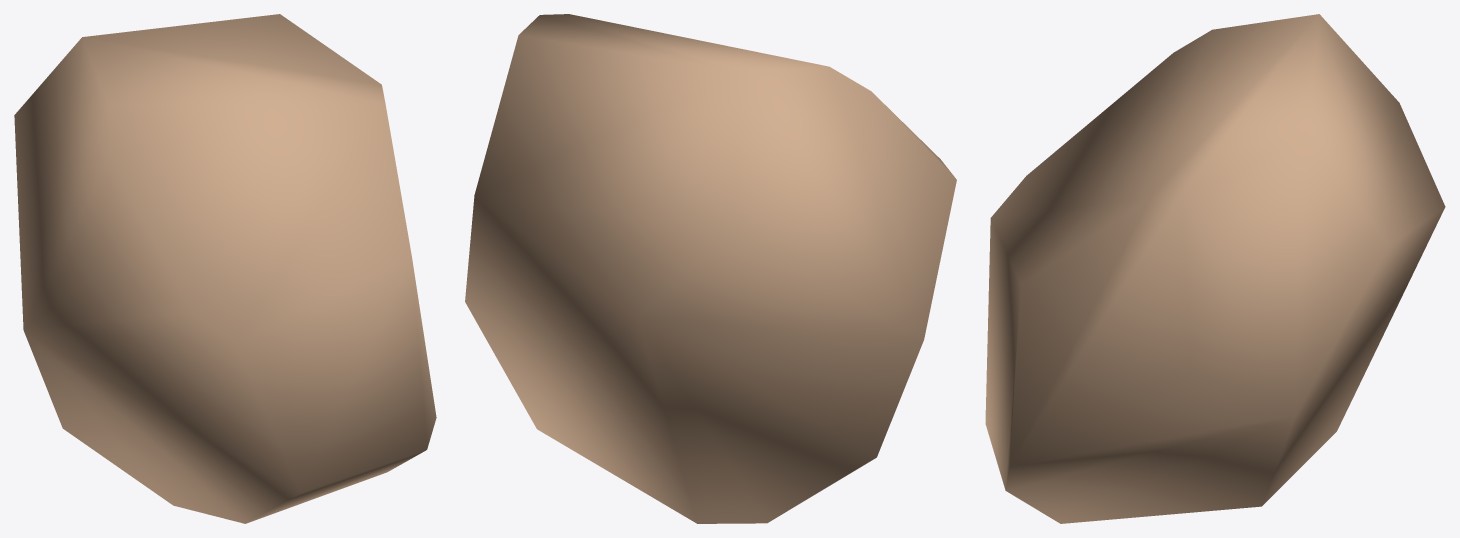
File: Rock3.fbx
3 views of the same model, side by side, from view 1: azimuth 30°, elevation 25°; view 2: azimuth 150°, elevation 25°; view 3: azimuth 270°, elevation 25° (orthographic). The views are drawn at different scales.
Visible parts, largest first — view 1: Rock3; view 2: Rock3; view 3: Rock3.
Boxes of the visible parts, bbox=[...] form: Rock3: bbox=[14, 14, 436, 523]; Rock3: bbox=[465, 14, 956, 523]; Rock3: bbox=[985, 14, 1445, 523].
Size of the model in its own units: 109 by 116 by 111.
